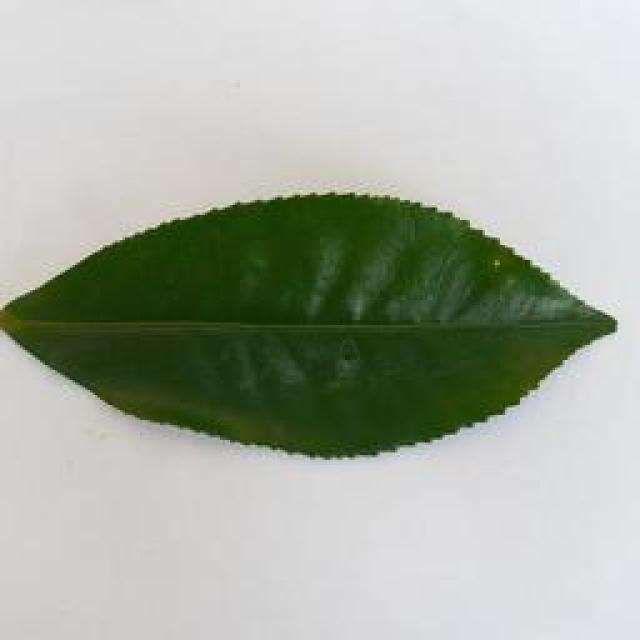Healthy: (0, 189, 640, 461)
